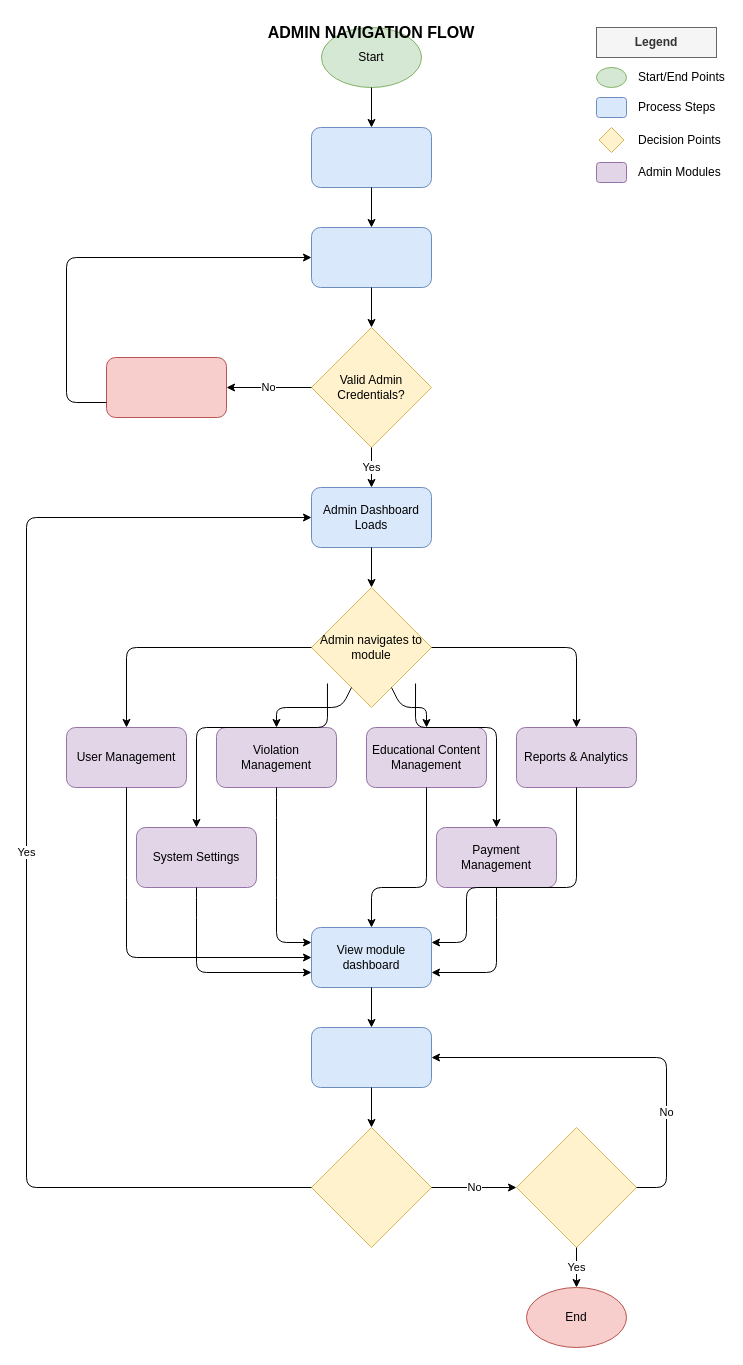
Some shapes in this 743 by 1365 pixel diagram are drawn without their labels. Each missing label, with the centre of its shape:
Display error message: the point at 166,387
Logout?: the point at 576,1187
Perform actions on selected section: the point at 371,1057
Return to main dashboard?: the point at 371,1187
User enters credentials: the point at 371,257
User navigates to login page: the point at 371,157
